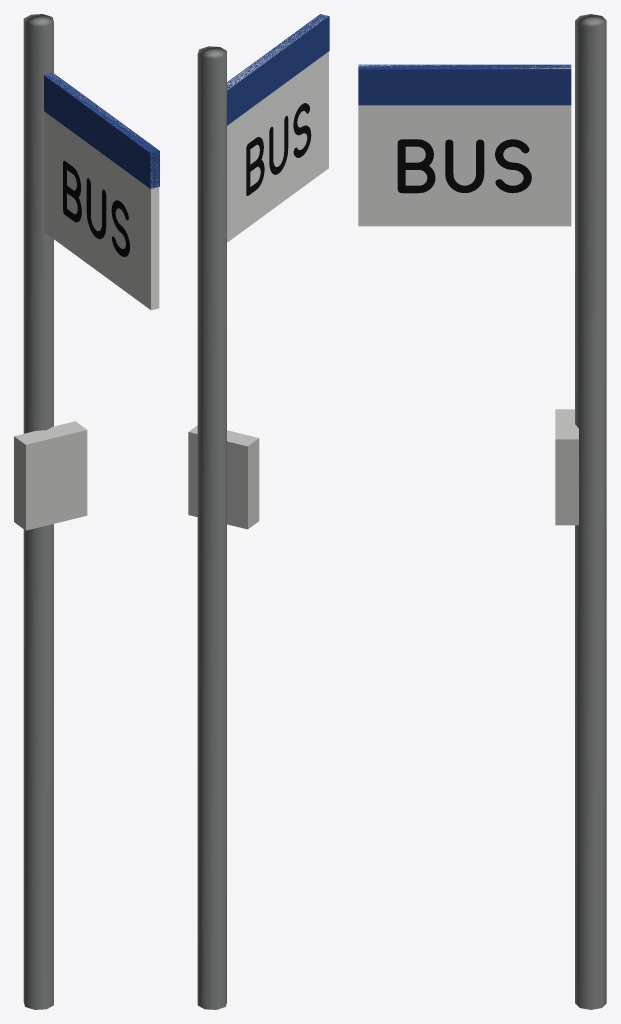
The model's file is street.furniture.bus_stop_flag.glb.
3 renders of one model, left to right at view 1: azimuth 30°, elevation 25°; view 2: azimuth 150°, elevation 25°; view 3: azimuth 270°, elevation 25°, orthographic. The views are drawn at different scales.
Parts seen in each view (by area): view 1: main__galv_888, main__paint_ddd, main__timber_ccc, main__paint_248, main__rubber; view 2: main__galv_888, main__paint_ddd, main__paint_248, main__timber_ccc, main__rubber; view 3: main__galv_888, main__paint_ddd, main__paint_248, main__rubber, main__timber_ccc.
Part boxes in pixels (x1,y1,x2,y2): main__galv_888: (23, 14, 53, 1009); main__paint_ddd: (44, 74, 159, 310); main__timber_ccc: (14, 421, 87, 530); main__paint_248: (44, 73, 159, 188); main__rubber: (63, 160, 129, 256); main__galv_888: (197, 46, 226, 1009); main__paint_ddd: (227, 15, 328, 242); main__paint_248: (227, 14, 329, 125); main__timber_ccc: (188, 425, 259, 529); main__rubber: (246, 103, 311, 195); main__galv_888: (575, 14, 606, 1009); main__paint_ddd: (358, 65, 571, 226); main__paint_248: (358, 64, 571, 105); main__rubber: (397, 139, 531, 193); main__timber_ccc: (555, 409, 578, 525).
Size of the model in its own units: 0.18 by 2.75 by 0.63.
